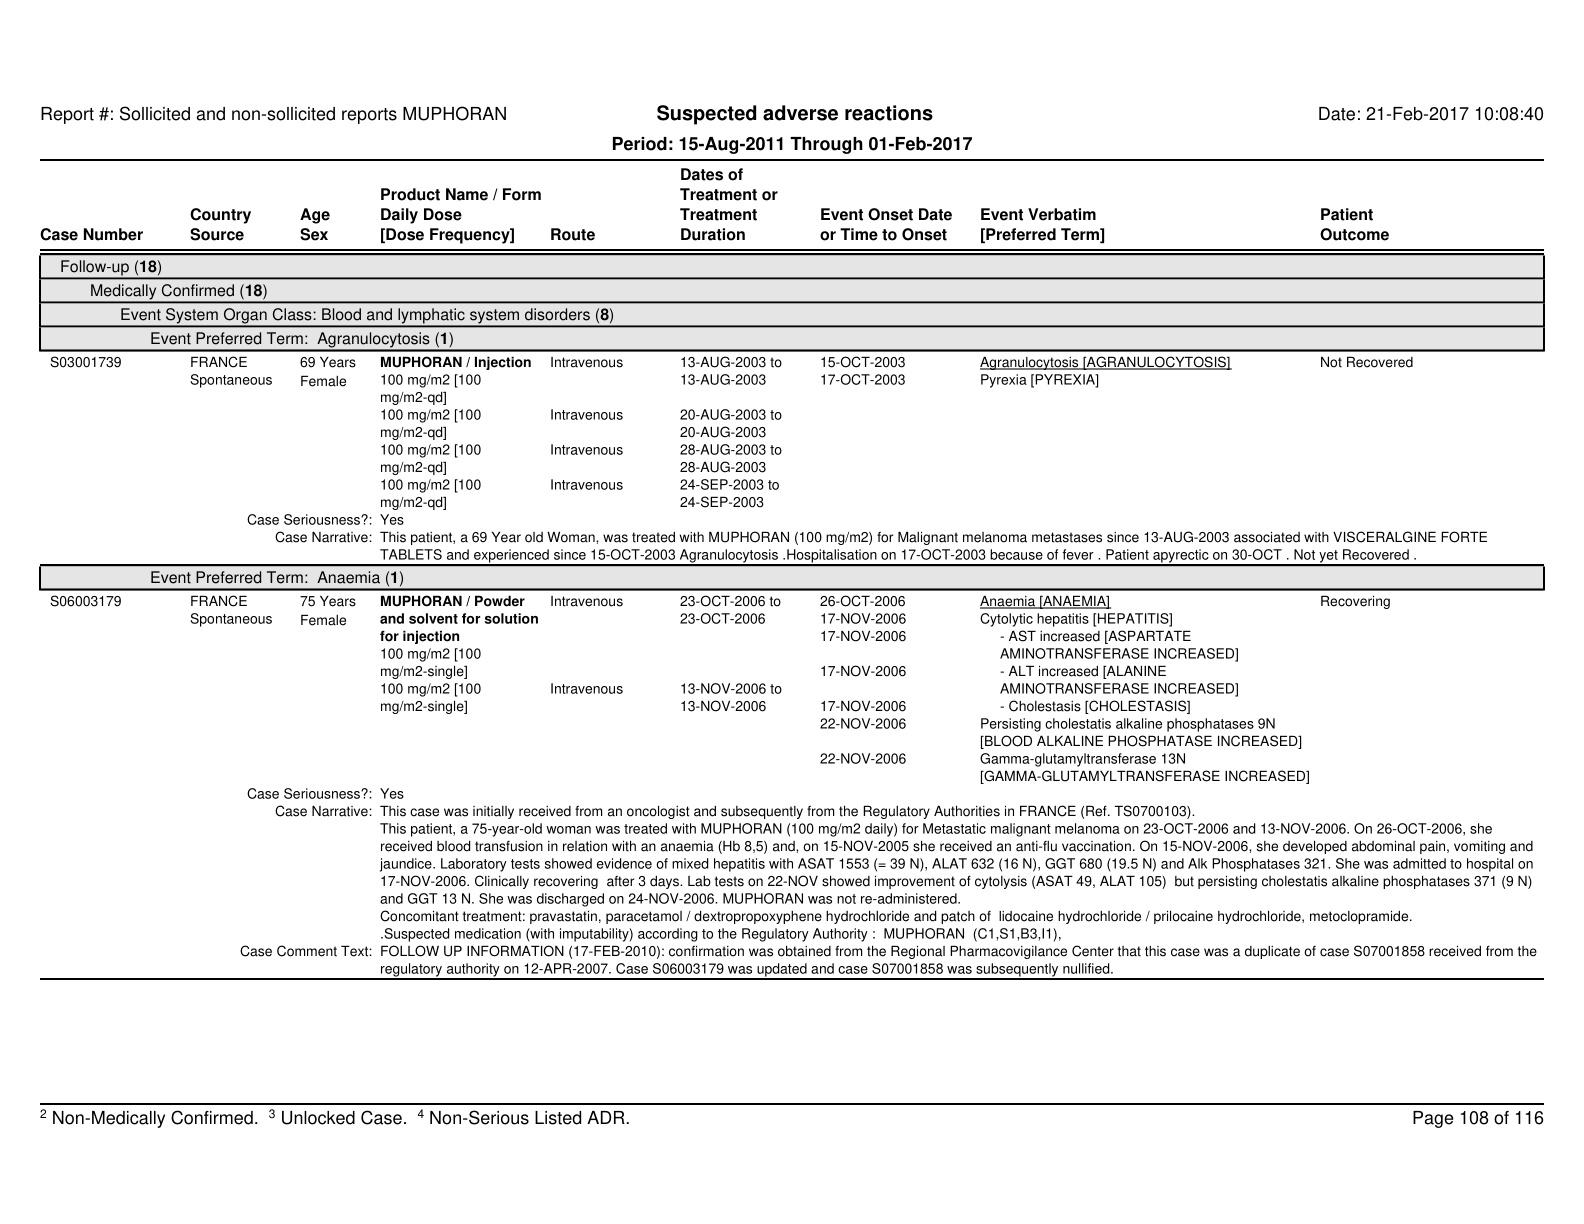partial_lined: (39, 158, 1545, 981)
